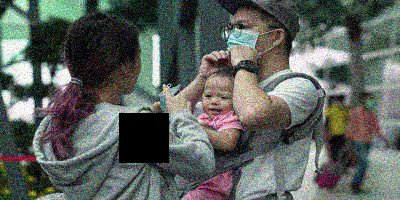with_mask: (226, 15, 271, 66)
without_mask: (201, 89, 235, 121), (124, 48, 143, 96)
